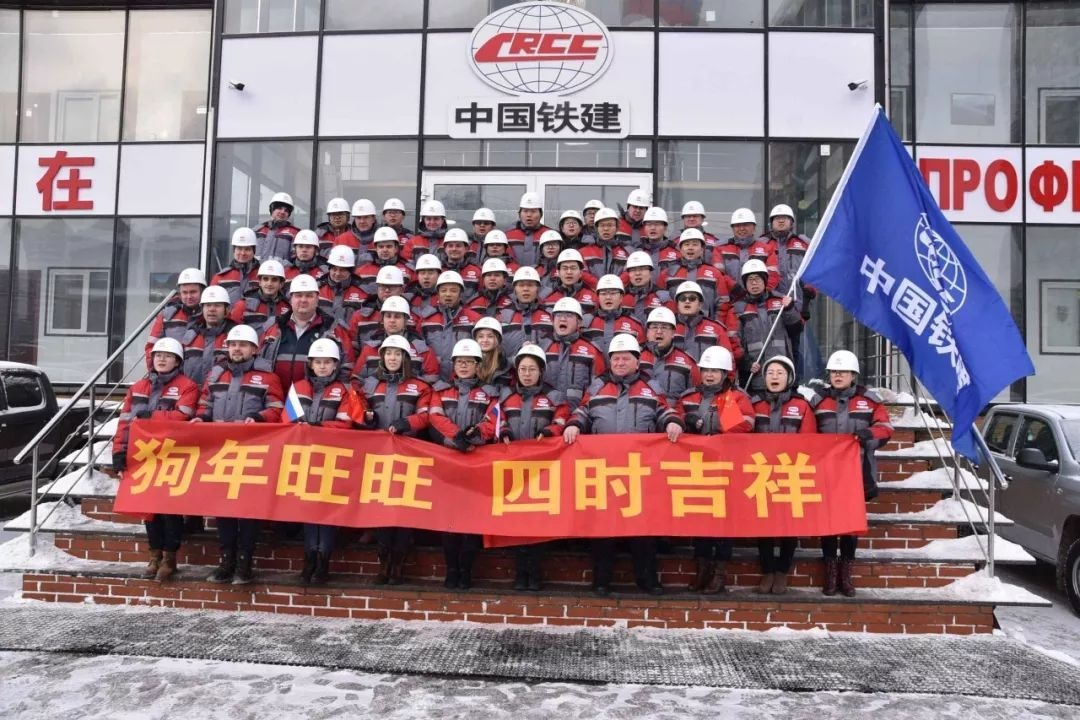white: (514, 341, 546, 388), (644, 305, 677, 350), (698, 345, 734, 386), (825, 346, 859, 389), (148, 336, 185, 374), (606, 335, 642, 373), (738, 257, 772, 297), (510, 264, 543, 305), (450, 339, 483, 380), (289, 273, 319, 318), (378, 296, 411, 336), (199, 283, 229, 326), (378, 333, 409, 374), (761, 355, 795, 392), (309, 338, 342, 376), (226, 324, 258, 362), (325, 243, 356, 282), (470, 317, 504, 352), (553, 296, 582, 337), (434, 271, 466, 308), (674, 277, 704, 316), (177, 266, 205, 307), (555, 246, 583, 285), (231, 227, 258, 265), (480, 256, 509, 291), (376, 263, 403, 300), (729, 207, 758, 241), (597, 274, 623, 311), (625, 249, 651, 286), (517, 191, 543, 228), (642, 206, 669, 241), (443, 227, 470, 262), (372, 225, 400, 258), (768, 202, 795, 236), (593, 205, 619, 240), (415, 253, 441, 287), (258, 260, 284, 294), (419, 199, 445, 232), (351, 197, 377, 230), (292, 228, 318, 261), (677, 228, 704, 258), (325, 196, 352, 226), (679, 199, 706, 228), (267, 191, 294, 220), (558, 210, 584, 238), (483, 229, 509, 257), (627, 188, 649, 221), (471, 207, 495, 237), (539, 230, 562, 260), (380, 198, 405, 224), (581, 197, 602, 225)
